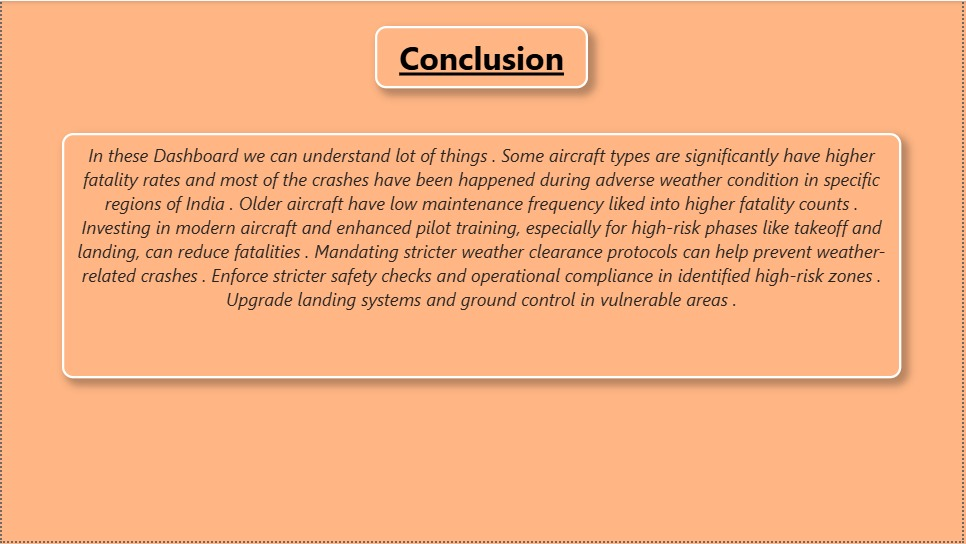

The page's visual inventory and layout, read from the dashboard file:
{"tool":"powerbi","page":{"name":"Conclusion","canvas":[1280,720],"ordinal":5},"visuals":[{"type":"textbox","box":[497.1,32.9,284.3,82.9],"z":0},{"type":"textbox","box":[80,175.7,1118.6,327.1],"z":1000}]}

Visuals, with their boxes in screenshot pixels (x1, y1, x2, y2), scaled from the page's 1280x720 canvas onto the 966x544 screenshot:
textbox: x1=375, y1=25, x2=590, y2=87
textbox: x1=60, y1=133, x2=905, y2=380
